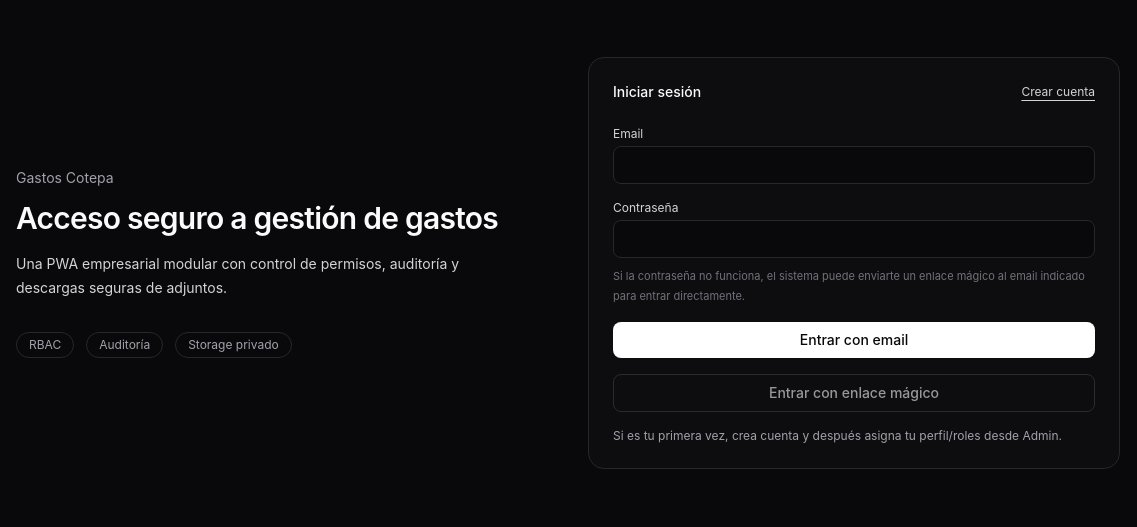
Test: smoke › muestra un mensaje claro cuando Supabase rechaza el login por configuración de auth
Type "user@test.local" into the field labelled "Email" at (854, 165), box [613, 146, 1095, 184]
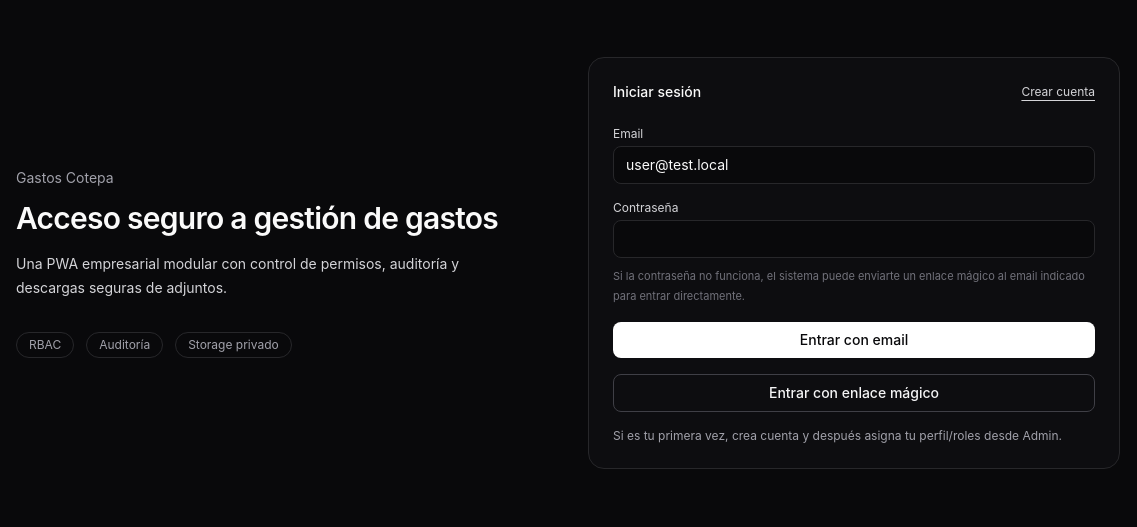
Type "password123" into the password field labelled "Contraseña" at (854, 239), box [613, 220, 1095, 258]
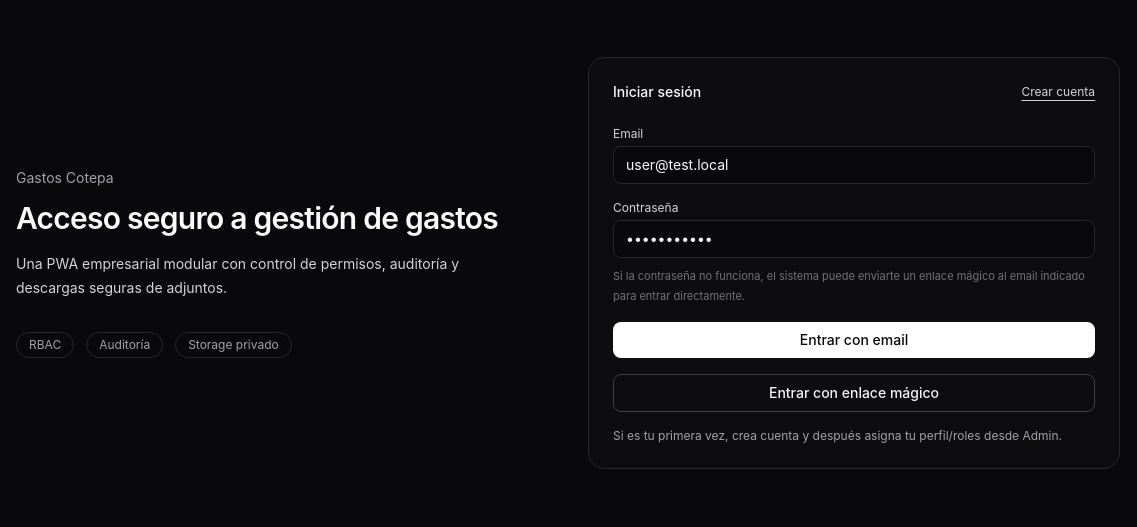
Click the button "Entrar con email" at (854, 340), box [613, 322, 1095, 358]
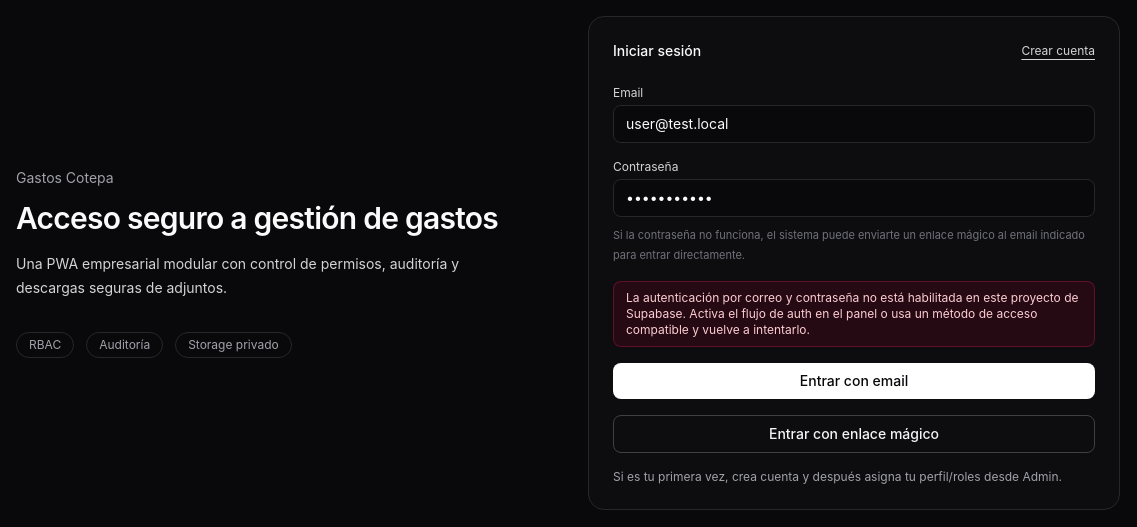
Expected: the text "La autenticación por correo" is shown, [626, 290, 1078, 337]
